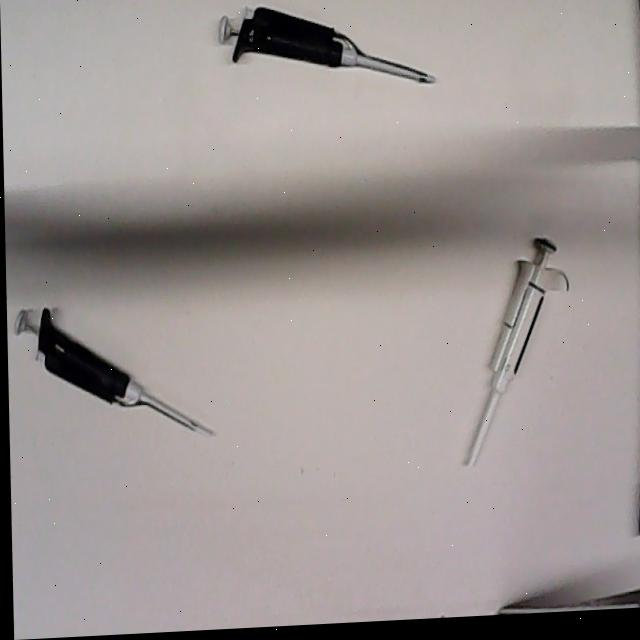Single Channel Pipettor: (12, 296, 220, 451), (457, 229, 579, 476), (211, 0, 445, 111)
